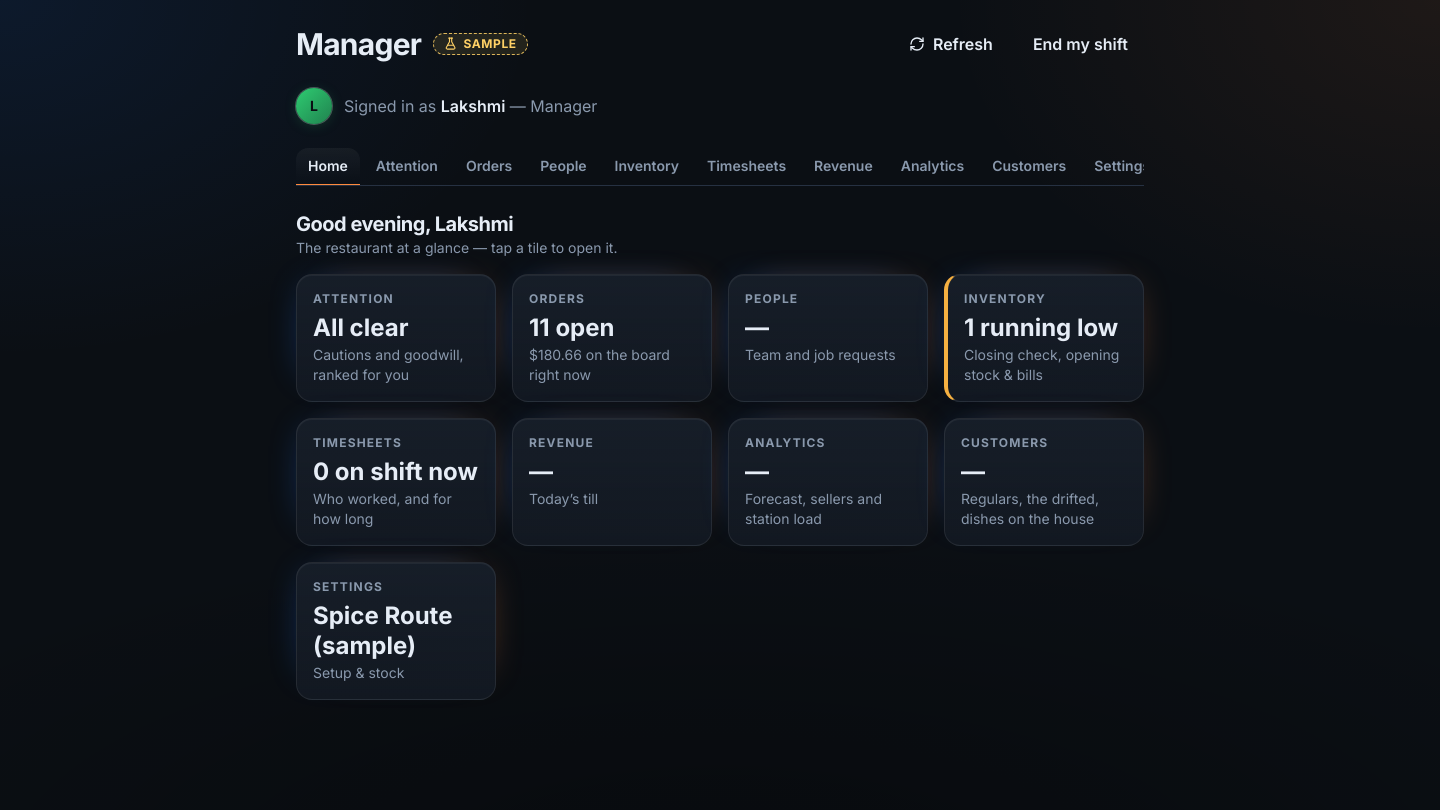
it: orders_section_shows_the_live_board_and_the_days_history
The width and height of the screenshot is (1440, 810).
Click the tab "Orders".
click(489, 167)  # box [454,148,524,186]
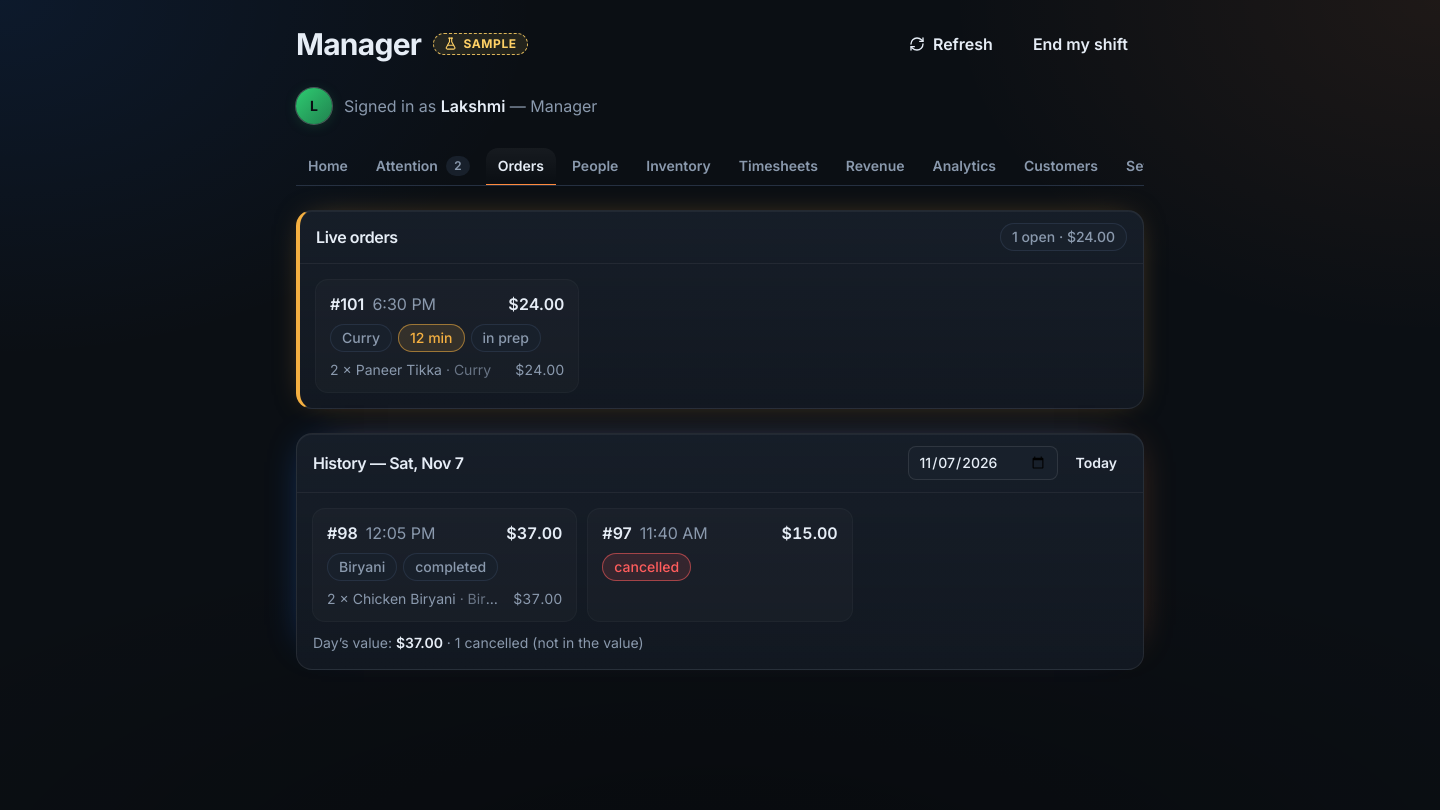
Expected: the text "#101" is shown, [330,292,436,316]
Expected: the text "2 × Paneer Tikka · Curry" is shown, [330,360,491,380]
Expected: the text "12 min" is shown, [398,324,465,352]
